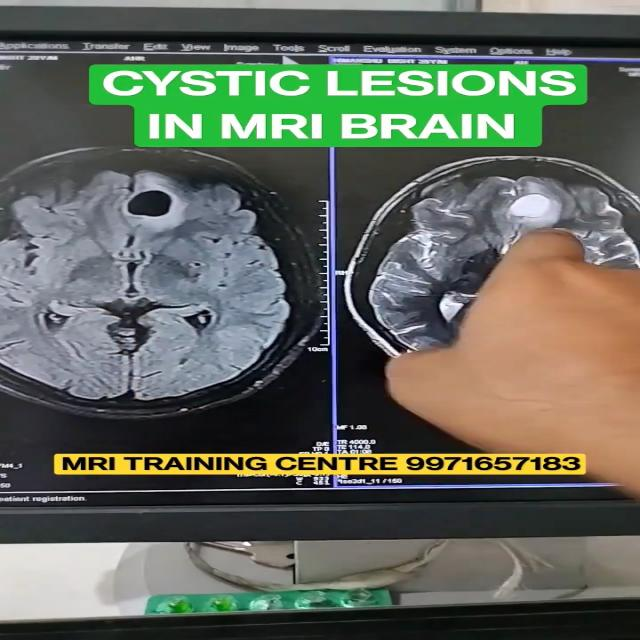tumor: (113, 174, 236, 236), (481, 187, 586, 237)
